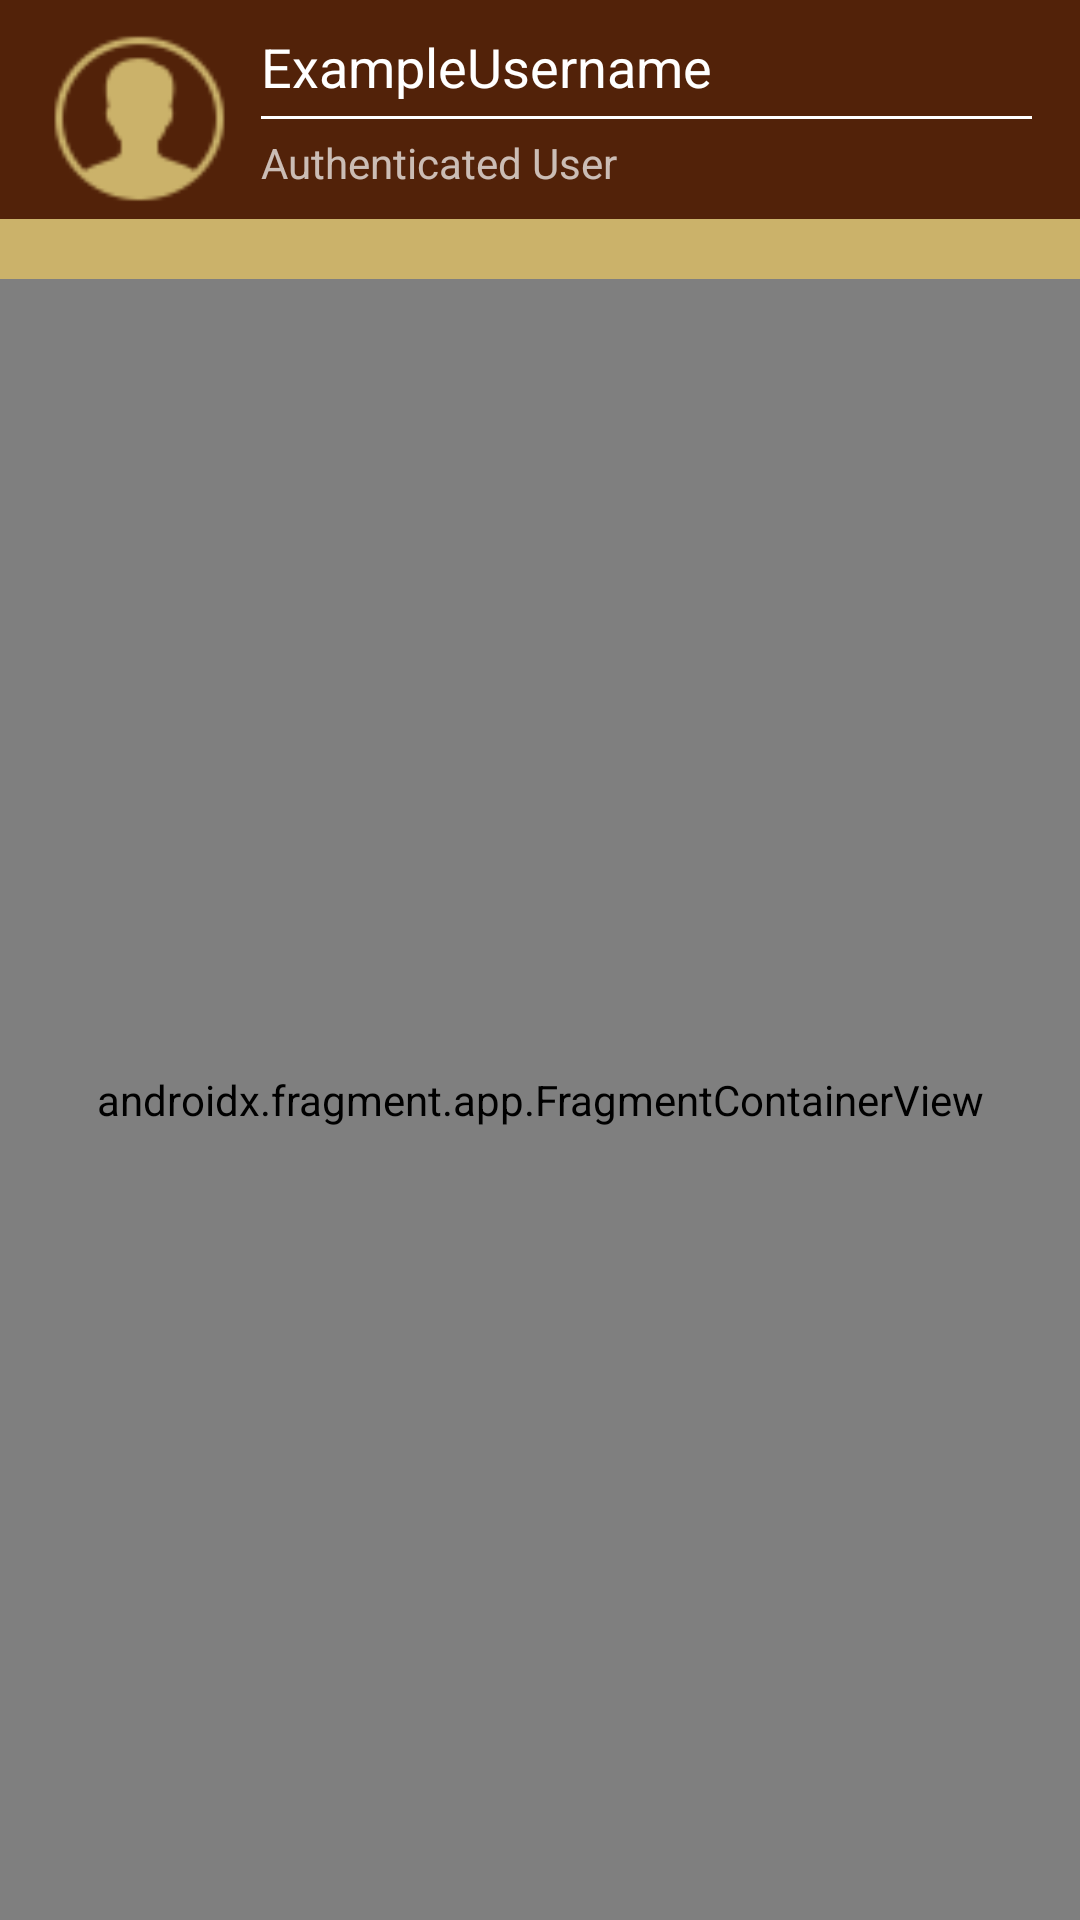

Icons on this 1080*1920 Android screen, each with its box as (x1, y1, x2, y2):
user gold: (54, 36, 225, 201)
